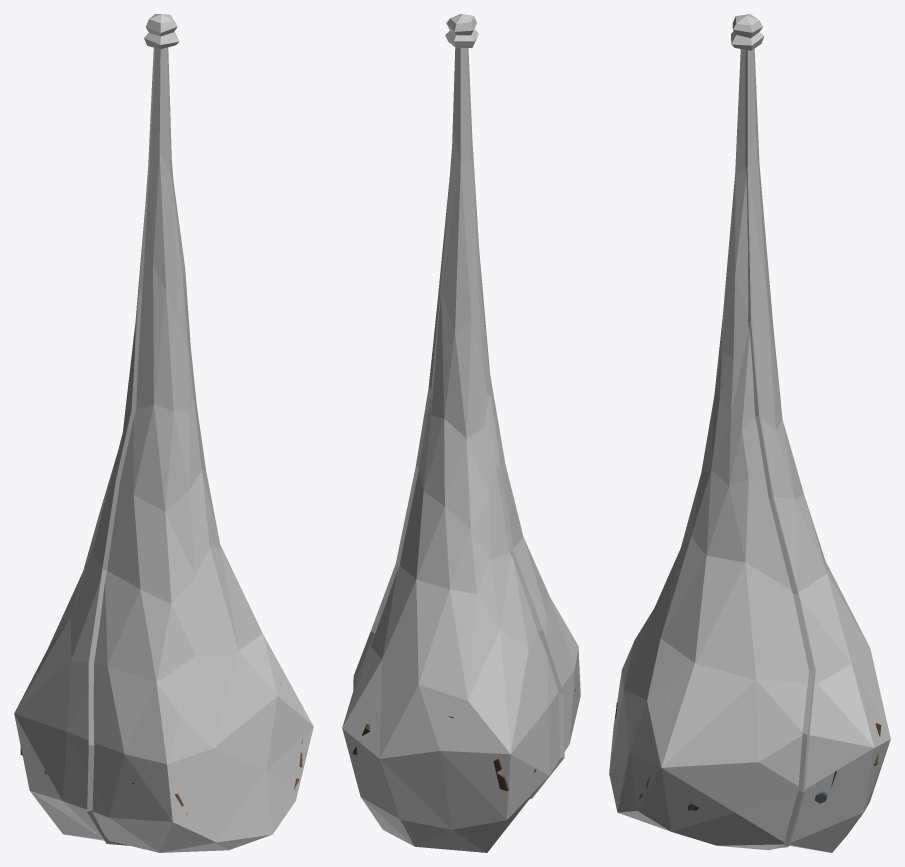
File: SM_Prop_Net_05.fbx
3 renders of one model, left to right at view 1: azimuth 30°, elevation 25°; view 2: azimuth 150°, elevation 25°; view 3: azimuth 270°, elevation 25°, orthographic. The views are drawn at different scales.
Visible parts, largest first — view 1: SM_Prop_Net_05; view 2: SM_Prop_Net_05; view 3: SM_Prop_Net_05.
Boxes of the visible parts, left/top/right/bottom form: SM_Prop_Net_05: left=14, top=14, right=313, bottom=852; SM_Prop_Net_05: left=342, top=14, right=580, bottom=852; SM_Prop_Net_05: left=609, top=14, right=890, bottom=852.
Bounding box in the file's own units: 106 × 406 × 126.
